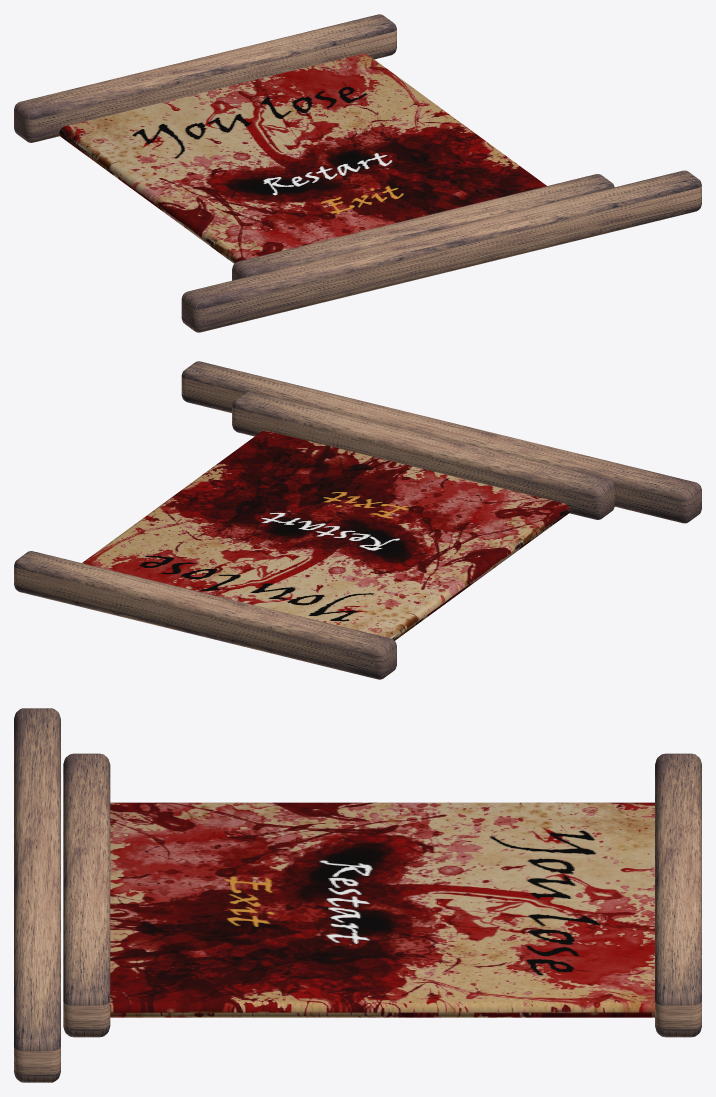
The model's file is muerte_2.obj.
3 renders of one model, top to bottom at view 1: azimuth 30°, elevation 25°; view 2: azimuth 150°, elevation 25°; view 3: azimuth 270°, elevation 25°, orthographic. The views are drawn at different scales.
Parts seen in each view (by area): view 1: ChamferBox002, ChamferBox004, ChamferBox001, ChamferBox003; view 2: ChamferBox002, ChamferBox001, ChamferBox003, ChamferBox004; view 3: ChamferBox002, ChamferBox004, ChamferBox003, ChamferBox001.
Boxes of the visible parts, left/top/right/bottom form: ChamferBox002: left=59, top=53, right=546, bottom=263; ChamferBox004: left=181, top=170, right=701, bottom=332; ChamferBox001: left=14, top=14, right=396, bottom=142; ChamferBox003: left=232, top=174, right=614, bottom=280; ChamferBox002: left=82, top=430, right=569, bottom=640; ChamferBox001: left=14, top=551, right=396, bottom=679; ChamferBox003: left=232, top=391, right=614, bottom=519; ChamferBox004: left=181, top=361, right=701, bottom=523; ChamferBox002: left=110, top=802, right=654, bottom=1017; ChamferBox004: left=14, top=708, right=60, bottom=1082; ChamferBox003: left=63, top=753, right=110, bottom=1037; ChamferBox001: left=655, top=753, right=701, bottom=1037.
Bounding box in the file's own units: 162 × 10 × 140.
